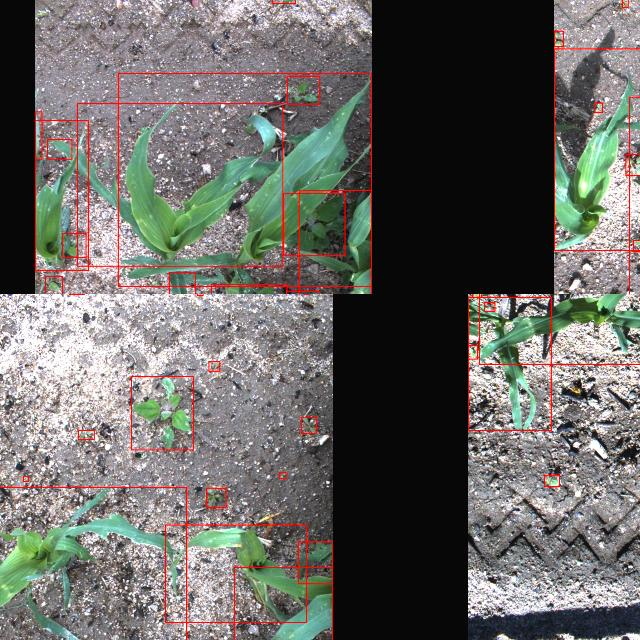crop: (117, 72, 371, 286), (76, 103, 282, 265), (0, 486, 186, 640), (553, 48, 640, 250), (165, 524, 307, 622), (478, 294, 640, 364), (468, 296, 550, 429), (34, 120, 88, 270), (298, 190, 371, 294), (233, 567, 332, 640), (298, 541, 332, 583), (168, 272, 194, 294), (46, 139, 72, 159), (35, 112, 41, 158), (544, 474, 558, 486), (286, 290, 320, 294)
weed: (131, 376, 193, 449), (284, 193, 344, 255), (286, 75, 320, 103), (61, 233, 85, 257), (206, 487, 226, 507), (624, 153, 640, 174), (44, 276, 61, 294), (302, 416, 316, 432), (77, 429, 93, 439), (554, 30, 562, 46), (468, 344, 477, 358), (208, 361, 220, 371), (632, 239, 640, 250), (593, 102, 601, 112), (484, 302, 494, 310), (621, 0, 627, 6), (279, 472, 285, 478), (471, 294, 480, 297), (22, 476, 28, 480), (197, 294, 202, 295)
